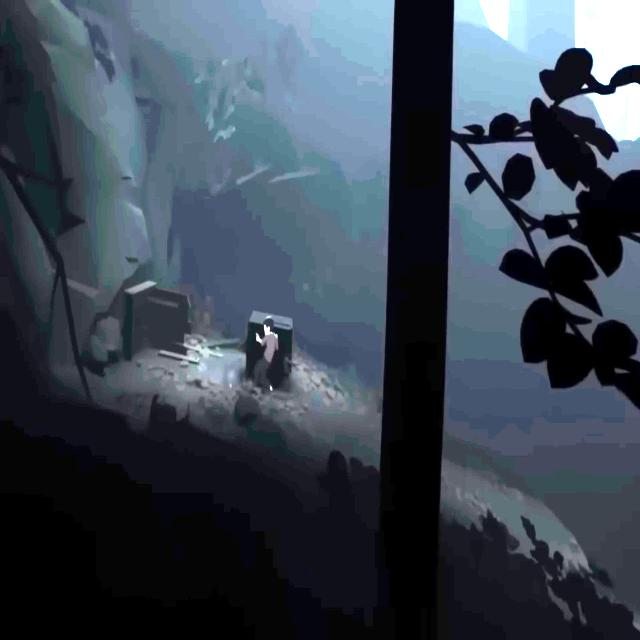boy: (256, 316, 278, 393)
